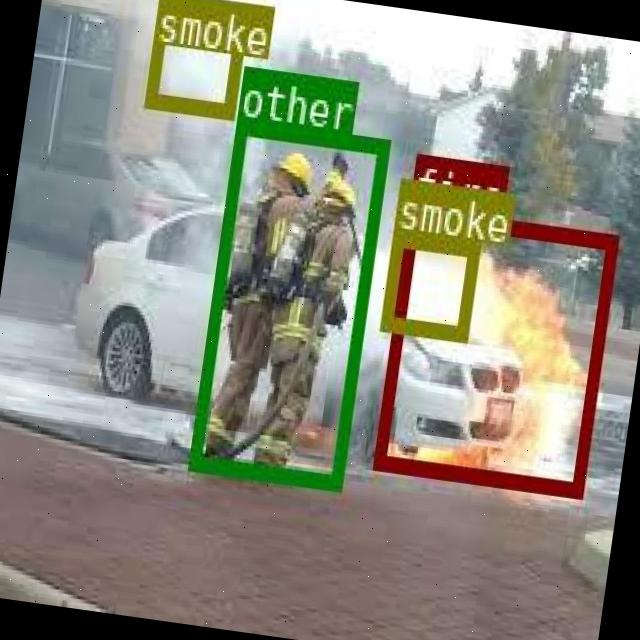fire: (371, 203, 618, 497)
smoke: (143, 0, 247, 116), (378, 228, 479, 338)
